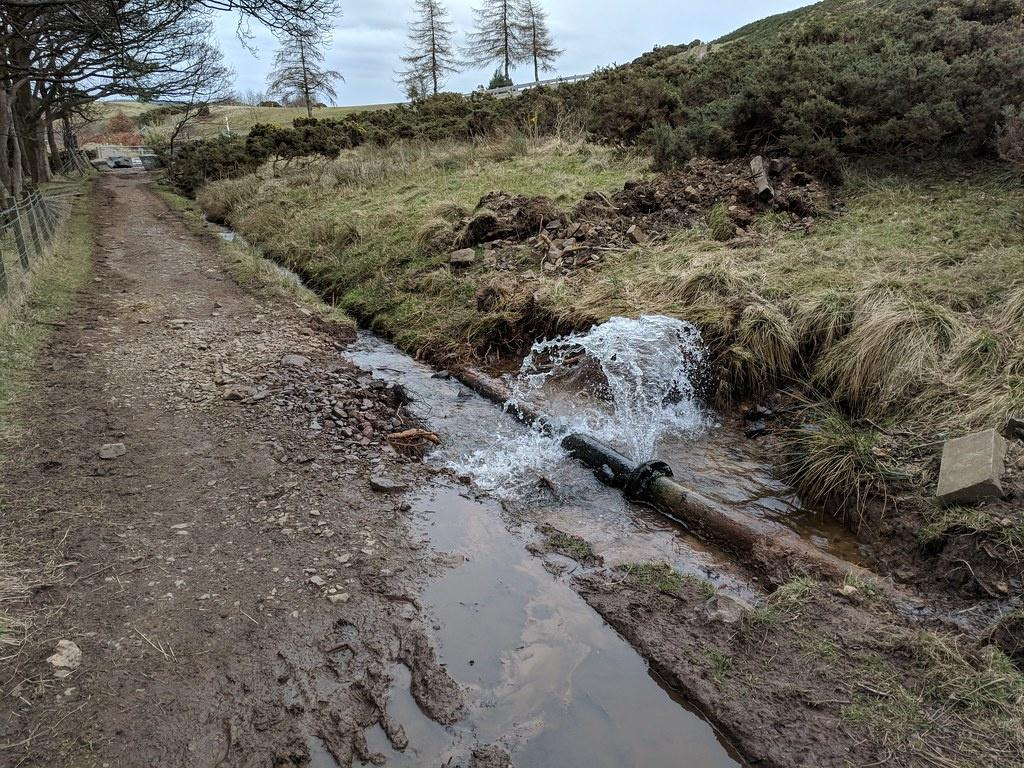pipe burst: (462, 315, 706, 490)
